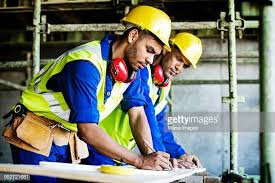helmet: (127, 4, 171, 42), (178, 32, 200, 67)
vest: (24, 43, 118, 132), (115, 77, 172, 154)
